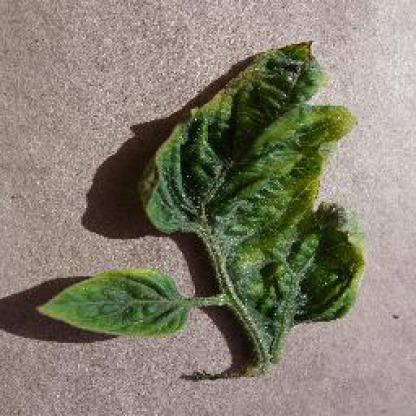bad leaf: (8, 23, 372, 398)
